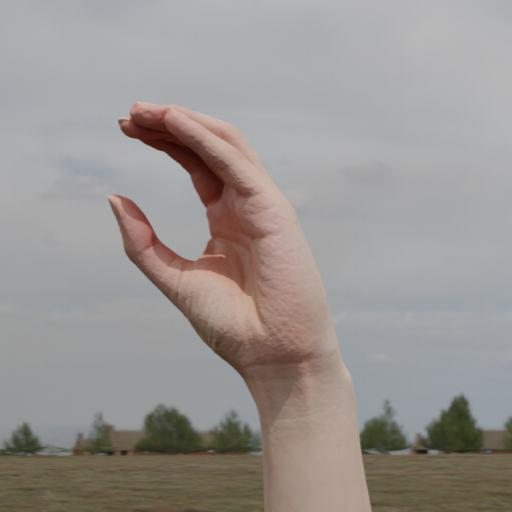C: (96, 75, 386, 463)
